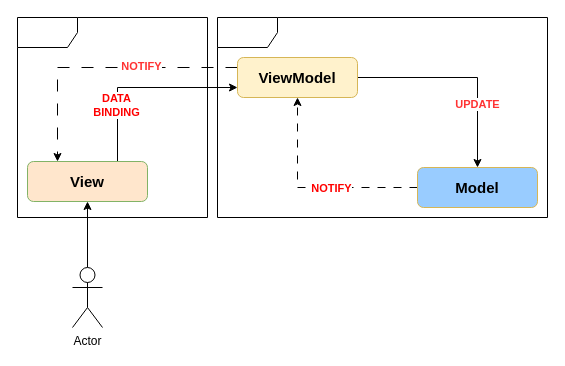
This 565x366 diagram has some shape labels left out. The shapes that lost their labels are listed below. From the top down, each one's centre as x and y in pixels, then its label:
(x=112, y=117): UI
(x=382, y=117): Backend
